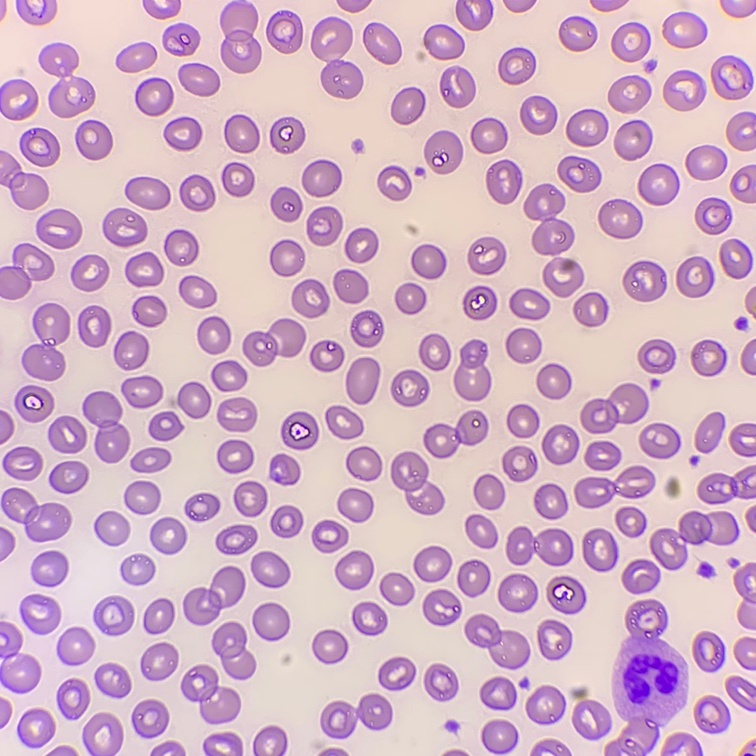RBC: (605, 600, 685, 755), (650, 511, 737, 569), (311, 17, 362, 98), (39, 43, 94, 117), (1, 488, 71, 541), (22, 303, 69, 380), (183, 566, 244, 624), (465, 614, 529, 668), (524, 184, 573, 254), (182, 665, 240, 723), (581, 383, 647, 433), (83, 391, 129, 462), (575, 466, 654, 507), (391, 452, 443, 514), (321, 693, 391, 737), (423, 410, 487, 458), (220, 0, 261, 72), (0, 244, 53, 299), (243, 319, 305, 365), (0, 621, 40, 691), (0, 151, 48, 209), (506, 527, 572, 565), (212, 622, 255, 678), (454, 340, 490, 400), (698, 466, 755, 503), (570, 687, 610, 738), (711, 55, 752, 99), (36, 209, 81, 248), (663, 70, 705, 110), (623, 261, 665, 301), (599, 199, 642, 238), (103, 208, 147, 246), (638, 164, 678, 205), (83, 713, 122, 755), (424, 131, 462, 173), (363, 23, 401, 64), (608, 75, 650, 112), (346, 357, 379, 404), (663, 11, 706, 47), (543, 258, 583, 296), (94, 596, 134, 634), (566, 109, 607, 146), (676, 256, 713, 297), (558, 156, 600, 192), (168, 382, 210, 418), (486, 160, 521, 203), (614, 120, 652, 159), (20, 128, 59, 166), (0, 79, 37, 119), (267, 10, 302, 52), (135, 77, 173, 115), (335, 551, 373, 589), (498, 574, 536, 612), (612, 22, 649, 61), (75, 120, 112, 159), (21, 594, 60, 631), (440, 66, 475, 107), (125, 177, 169, 209), (292, 279, 329, 317), (526, 686, 564, 723), (18, 708, 55, 746), (302, 160, 341, 196), (542, 425, 578, 464), (639, 423, 679, 458), (468, 237, 505, 274), (281, 412, 318, 449), (49, 416, 86, 453), (547, 576, 584, 613), (520, 96, 556, 134), (15, 385, 53, 421), (251, 551, 289, 587), (307, 206, 342, 245), (686, 145, 726, 179), (178, 63, 219, 96), (583, 529, 616, 570), (499, 47, 535, 84), (391, 370, 428, 406), (253, 603, 289, 640), (141, 643, 178, 679), (424, 25, 463, 59), (132, 700, 168, 736), (224, 115, 259, 152), (71, 255, 108, 290), (414, 546, 451, 581), (423, 589, 460, 624), (59, 627, 94, 664), (125, 252, 163, 286), (114, 331, 148, 369), (537, 620, 571, 658), (217, 398, 256, 431), (78, 306, 110, 346), (121, 376, 162, 407), (471, 118, 507, 153), (695, 198, 730, 234), (151, 517, 186, 553), (31, 551, 68, 585), (720, 239, 752, 278), (3, 447, 42, 479), (509, 288, 549, 319), (391, 88, 425, 124), (270, 117, 304, 153), (164, 229, 198, 265), (270, 239, 304, 275), (638, 339, 674, 373), (481, 719, 517, 753), (559, 17, 596, 50), (164, 117, 201, 150), (116, 42, 156, 72), (216, 524, 256, 554), (180, 175, 214, 210), (333, 269, 368, 303), (506, 328, 541, 362), (691, 340, 725, 375), (502, 446, 536, 481), (338, 488, 373, 522), (197, 317, 230, 353), (326, 405, 362, 438), (217, 440, 253, 473), (622, 559, 658, 592), (457, 560, 490, 596), (378, 657, 414, 690), (424, 664, 457, 700), (50, 461, 88, 492), (377, 166, 411, 200), (412, 244, 446, 278), (574, 292, 608, 326), (537, 363, 570, 398), (346, 447, 381, 480), (234, 481, 267, 516), (95, 663, 130, 696), (124, 481, 160, 513), (162, 24, 199, 55), (179, 276, 216, 307), (693, 632, 723, 670), (345, 228, 378, 262), (463, 286, 496, 320), (95, 511, 129, 544), (313, 629, 347, 662), (534, 484, 566, 519), (312, 520, 347, 552), (352, 602, 387, 634), (480, 677, 515, 709), (351, 310, 382, 346), (419, 334, 450, 370), (58, 679, 89, 715), (726, 112, 755, 150), (694, 696, 726, 730), (211, 360, 246, 391), (143, 598, 174, 633), (456, 0, 492, 30), (695, 413, 723, 451), (222, 163, 254, 196), (465, 514, 497, 547), (271, 187, 302, 221), (310, 340, 343, 371), (507, 404, 538, 437), (380, 573, 413, 604), (474, 475, 504, 509), (585, 441, 620, 470), (271, 505, 302, 537), (133, 296, 166, 326), (131, 447, 170, 472), (121, 554, 154, 583), (253, 726, 286, 755), (395, 283, 426, 313), (149, 411, 181, 440), (185, 493, 219, 520), (269, 454, 299, 484), (726, 676, 755, 707), (731, 165, 755, 202), (204, 732, 242, 755), (20, 0, 56, 24), (616, 507, 645, 536), (730, 423, 755, 456), (734, 563, 755, 602), (143, 0, 180, 18), (734, 638, 755, 667), (666, 733, 696, 751), (723, 0, 755, 16), (741, 340, 755, 374), (540, 739, 569, 755), (0, 528, 14, 558), (738, 605, 755, 629), (0, 411, 13, 442), (338, 0, 368, 11), (592, 0, 624, 10), (505, 0, 534, 11), (0, 699, 11, 725), (166, 741, 184, 755), (51, 746, 76, 755), (666, 479, 679, 496), (746, 289, 755, 313), (747, 507, 755, 529), (352, 141, 363, 152), (699, 563, 710, 574), (446, 749, 465, 755), (736, 318, 746, 329), (746, 746, 755, 755), (0, 0, 5, 15), (644, 62, 653, 70), (152, 748, 162, 755), (334, 749, 345, 755), (321, 748, 330, 755), (531, 751, 539, 755)
